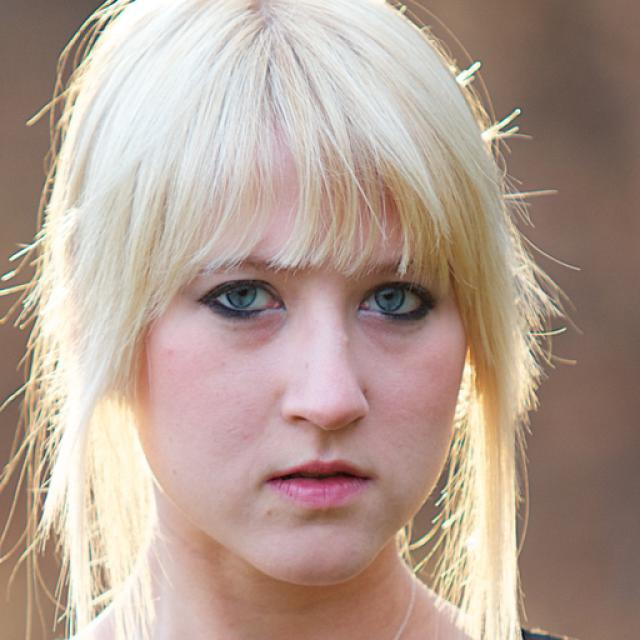Acne: (338, 332, 352, 350), (261, 506, 276, 520)
